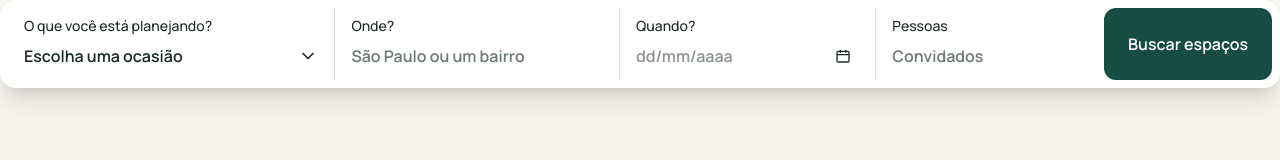
Test case: VenueSearch › formats a manually typed date and writes the ISO value used by search
Type "12082026" into the field named "quando" at (748, 56), box left=636, top=40, right=859, bottom=72
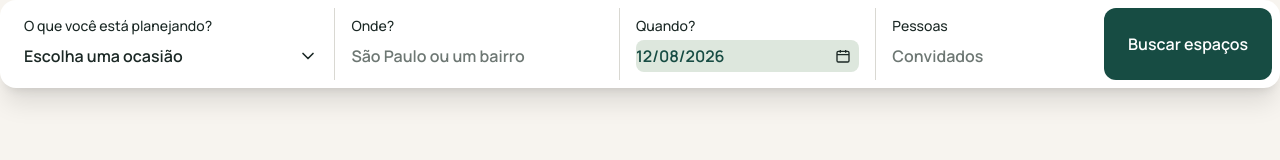
Result: the field named "quando" holds "12/08/2026" at left=636, top=40, right=859, bottom=72
